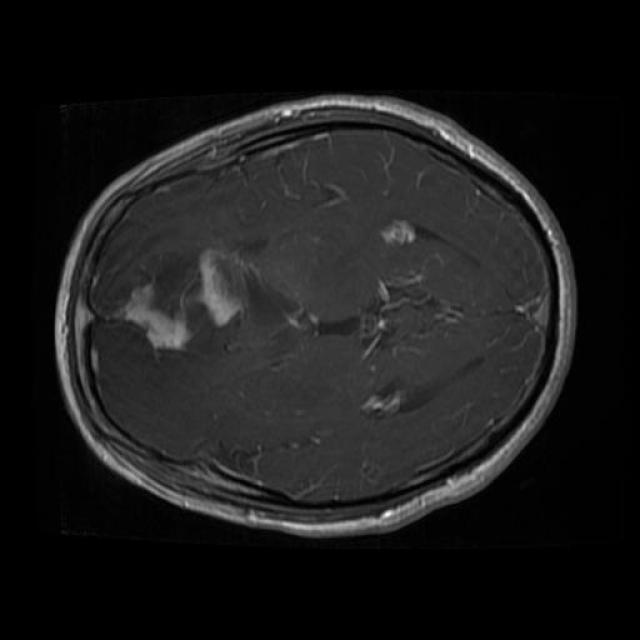Glioma: (107, 249, 294, 351)
